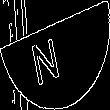N_N: (38, 25, 72, 85)
